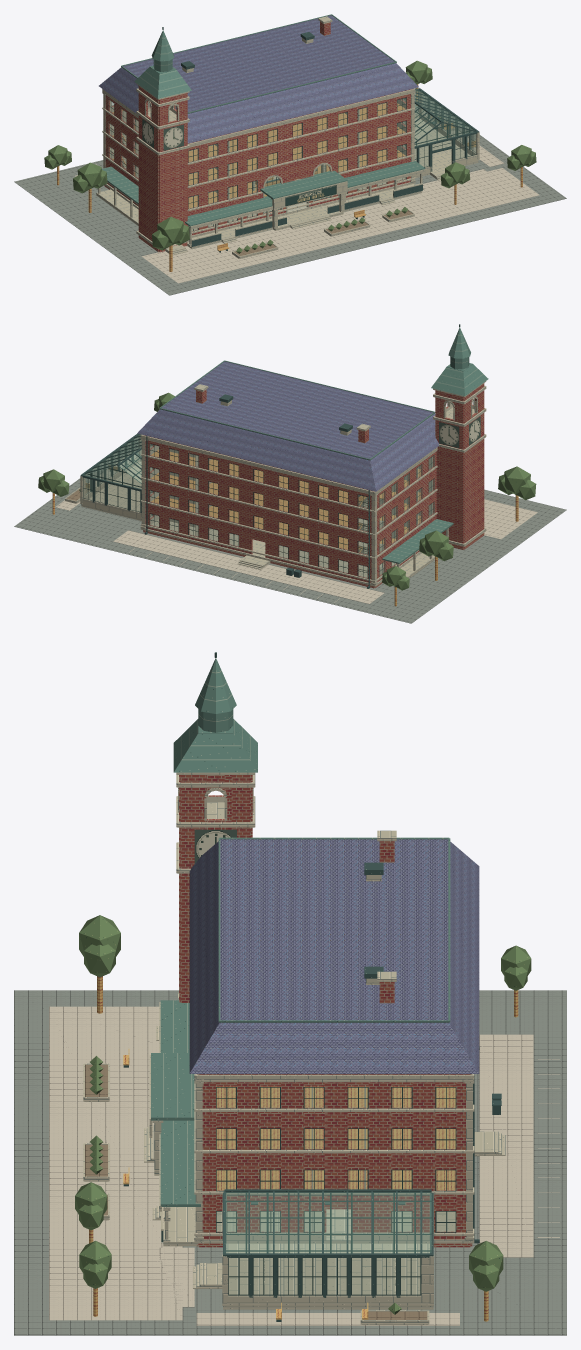
The model's file is riverside-grand-hotel.glb.
3 renders of one model, top to bottom at view 1: azimuth 30°, elevation 25°; view 2: azimuth 150°, elevation 25°; view 3: azimuth 270°, elevation 25°, orthographic. The views are drawn at different scales.
Parts seen in each view (by area): view 1: hotel__roof_slate, hotel__wall_brick, lot__ground_paving, arrival_court__ground_paving, hotel__wall_limestone, clock_tower__wall_brick, hotel__glass_windows, veranda__wall_limestone, veranda__roof_copper, hotel__detail_wood, winter_garden__glass_windows, winter_garden__wall_limestone (+15 smaller); view 2: hotel__roof_slate, hotel__wall_brick, lot__ground_paving, hotel__wall_limestone, hotel__glass_windows, clock_tower__wall_brick, rear_service_walk__ground_paving, hotel__detail_wood, winter_garden__glass_windows, winter_garden__wall_limestone, clock_tower__roof_copper, winter_garden__detail_iron (+12 smaller); view 3: hotel__roof_slate, lot__ground_paving, arrival_court__ground_paving, hotel__wall_brick, winter_garden__glass_windows, winter_garden__wall_limestone, hotel__wall_limestone, rear_service_walk__ground_paving, hotel__glass_windows, veranda__roof_copper, hotel__detail_wood, clock_tower__roof_copper (+11 smaller).
Boxes of the visible parts, bbox=[...] form: hotel__roof_slate: bbox=[99, 15, 418, 143]; hotel__wall_brick: bbox=[104, 21, 412, 235]; lot__ground_paving: bbox=[14, 88, 566, 295]; arrival_court__ground_paving: bbox=[141, 168, 539, 283]; hotel__wall_limestone: bbox=[102, 16, 415, 237]; clock_tower__wall_brick: bbox=[138, 86, 187, 252]; hotel__glass_windows: bbox=[108, 97, 406, 231]; veranda__wall_limestone: bbox=[96, 169, 425, 248]; veranda__roof_copper: bbox=[102, 161, 425, 226]; hotel__detail_wood: bbox=[112, 103, 405, 208]; winter_garden__glass_windows: bbox=[404, 88, 476, 167]; winter_garden__wall_limestone: bbox=[403, 91, 479, 180]; hotel__roof_slate: bbox=[137, 361, 438, 491]; hotel__wall_brick: bbox=[143, 389, 436, 588]; lot__ground_paving: bbox=[14, 438, 566, 623]; hotel__wall_limestone: bbox=[140, 384, 437, 586]; hotel__glass_windows: bbox=[149, 443, 434, 578]; clock_tower__wall_brick: bbox=[435, 383, 484, 549]; rear_service_walk__ground_paving: bbox=[113, 530, 384, 603]; hotel__detail_wood: bbox=[151, 449, 420, 563]; winter_garden__glass_windows: bbox=[83, 434, 151, 514]; winter_garden__wall_limestone: bbox=[80, 434, 151, 520]; clock_tower__roof_copper: bbox=[431, 327, 488, 396]; winter_garden__detail_iron: bbox=[80, 433, 151, 512]; hotel__roof_slate: bbox=[189, 839, 479, 1073]; lot__ground_paving: bbox=[14, 990, 566, 1335]; arrival_court__ground_paving: bbox=[49, 1006, 182, 1320]; hotel__wall_brick: bbox=[196, 841, 472, 1247]; winter_garden__glass_windows: bbox=[225, 1192, 431, 1295]; winter_garden__wall_limestone: bbox=[193, 1194, 433, 1309]; hotel__wall_limestone: bbox=[194, 830, 505, 1243]; rear_service_walk__ground_paving: bbox=[479, 1034, 533, 1257]; hotel__glass_windows: bbox=[216, 1087, 456, 1232]; veranda__roof_copper: bbox=[151, 1000, 200, 1206]; hotel__detail_wood: bbox=[216, 1086, 455, 1190]; clock_tower__roof_copper: bbox=[173, 658, 257, 772].
Size of what is drawn, in the model's own units: 72.17 by 37.25 by 48.89.
Materials: 12 (12 with a texture image).
